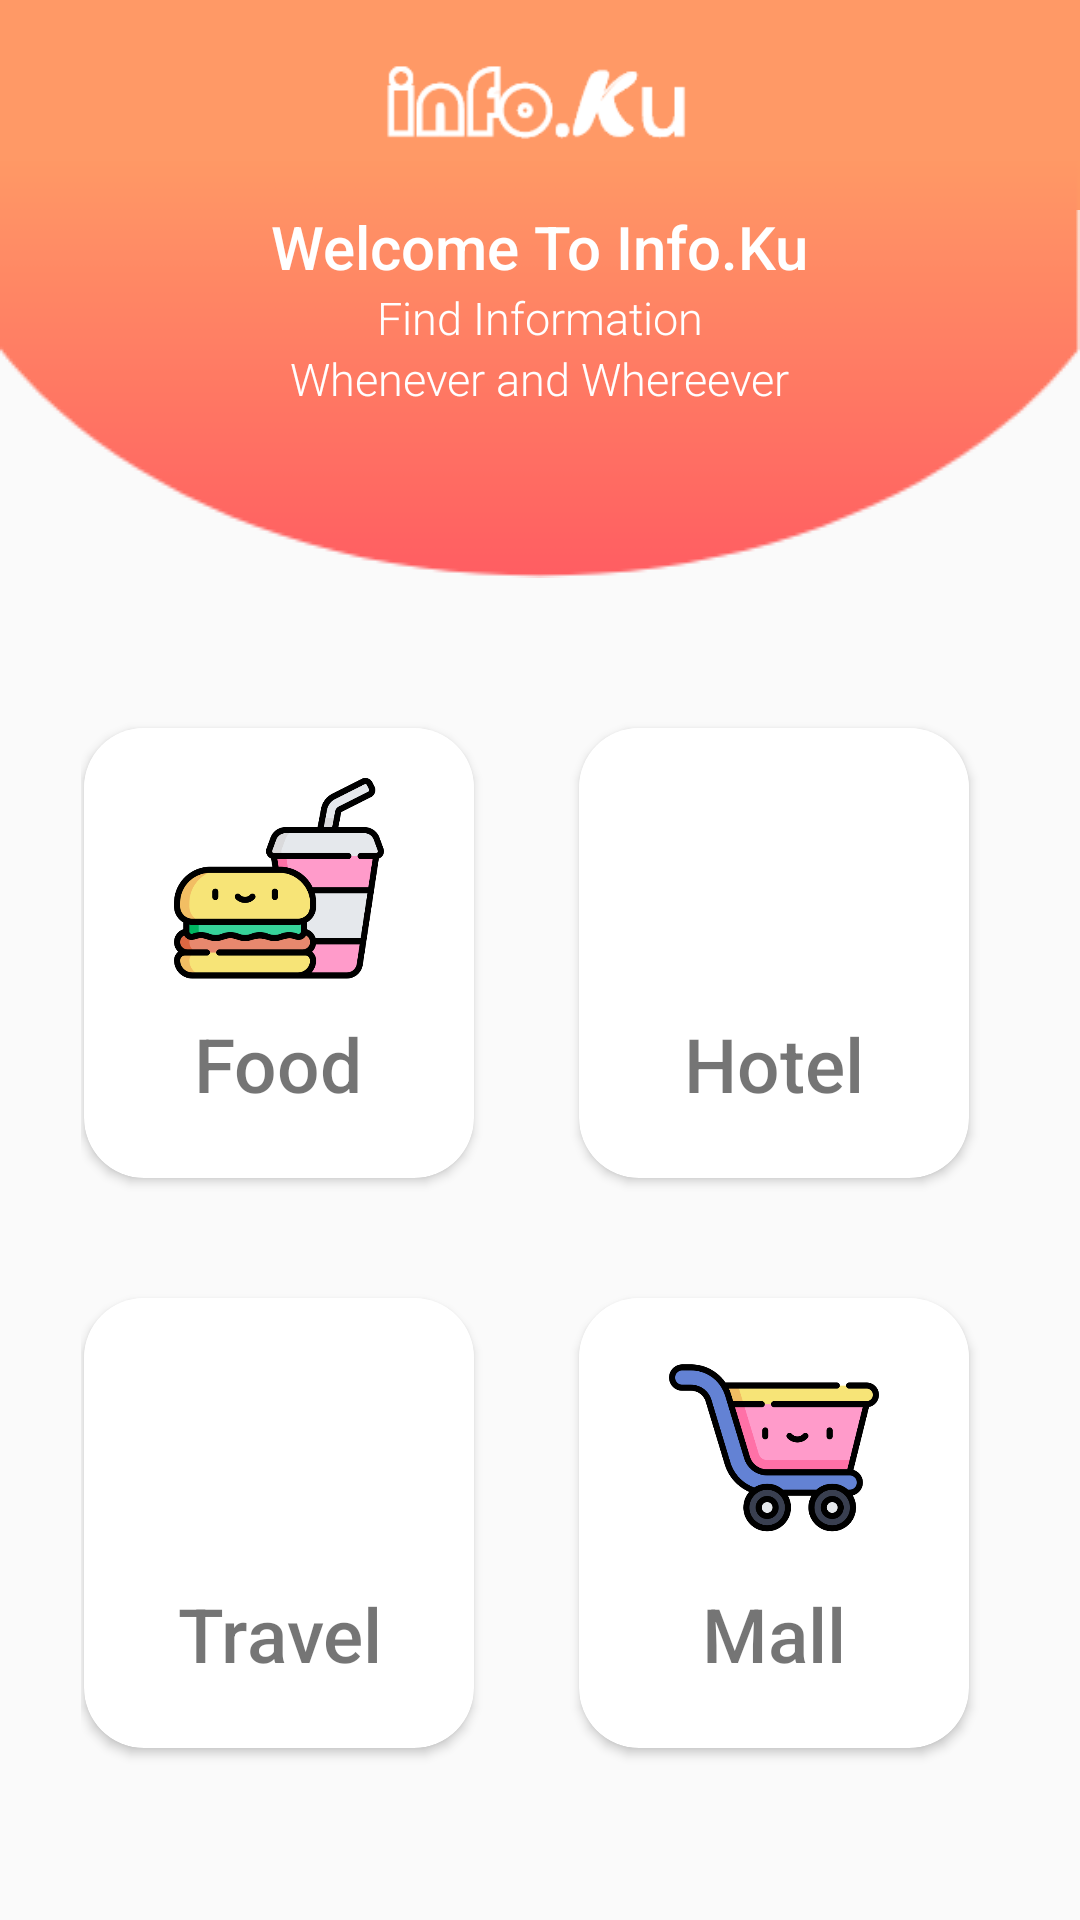

Locate icon controls on the screen. Image size 1080px×1920px, boxes as {"x1": x1, "y1": y1, "x2": x2, "y2": y2}.
cart: {"x1": 669, "y1": 1346, "x2": 969, "y2": 1532}
